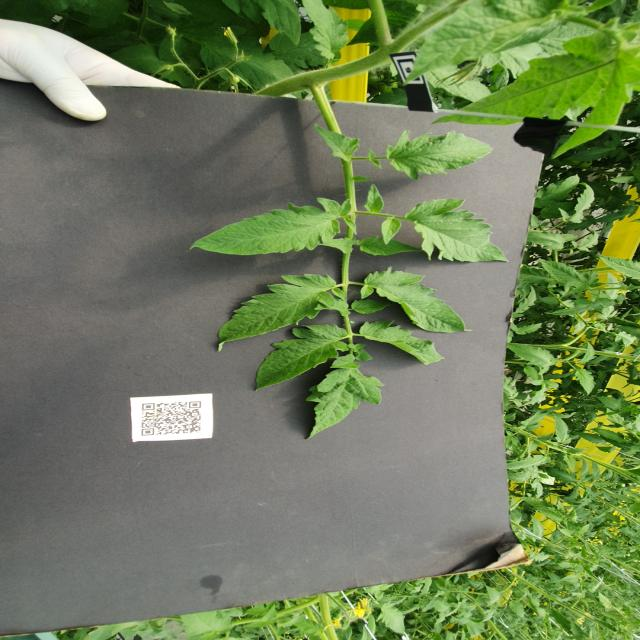Healthy Leaf: (430, 31, 640, 125), (402, 1, 558, 88), (552, 43, 640, 160), (218, 275, 346, 353), (191, 198, 358, 257), (361, 268, 474, 335), (405, 199, 510, 264), (255, 325, 351, 393), (306, 369, 388, 440), (387, 131, 497, 181), (361, 320, 447, 366), (302, 1, 350, 60), (315, 125, 363, 163), (533, 175, 582, 209), (559, 183, 596, 225), (538, 259, 590, 288), (508, 343, 554, 374), (359, 235, 422, 257), (595, 254, 640, 281), (378, 602, 406, 636), (513, 286, 539, 319), (526, 231, 566, 251), (351, 300, 396, 315), (508, 456, 552, 471), (517, 411, 548, 432), (320, 238, 357, 255), (576, 369, 598, 397), (554, 414, 573, 446), (591, 429, 629, 445), (366, 184, 385, 214), (546, 467, 579, 484), (383, 217, 402, 246), (576, 340, 598, 365), (330, 355, 362, 369), (517, 497, 554, 509), (576, 432, 609, 445), (593, 397, 622, 411), (485, 585, 501, 608), (532, 515, 546, 539), (517, 324, 544, 336), (263, 605, 279, 625), (538, 510, 564, 522), (510, 601, 526, 619), (564, 456, 578, 475), (559, 575, 581, 585), (558, 528, 576, 539)
